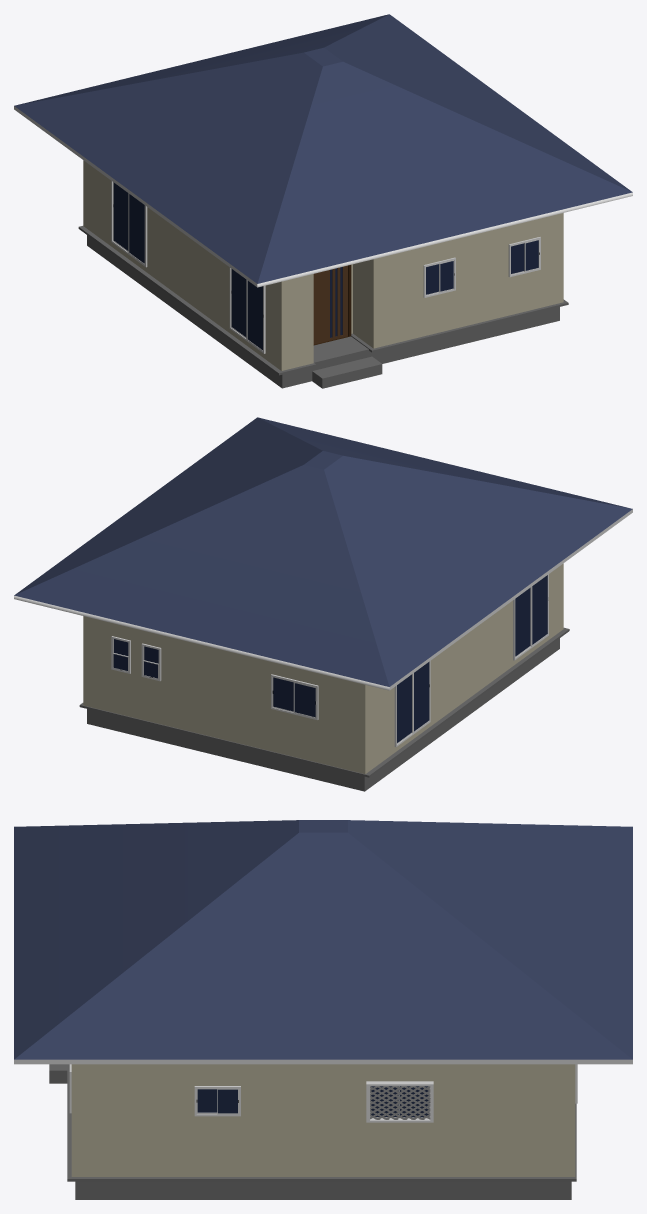
Rendered from House_12_middle.fbx.
3 views of the same model, one above another, from view 1: azimuth 30°, elevation 25°; view 2: azimuth 150°, elevation 25°; view 3: azimuth 270°, elevation 25° (orthographic). The views are drawn at different scales.
Parts seen in each view (by area): view 1: house012; view 2: house012; view 3: house012.
Part boxes in pixels (bbox=[...]): house012: bbox=[14, 14, 632, 388]; house012: bbox=[14, 417, 632, 791]; house012: bbox=[14, 820, 632, 1199].
Bounding box in the file's own units: 754 × 434 × 847.
